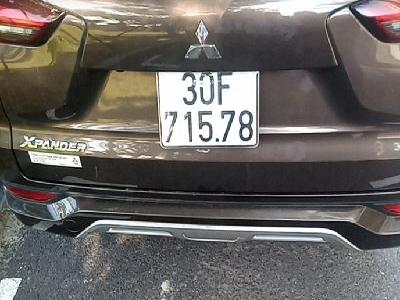lisence: (154, 70, 261, 148)
